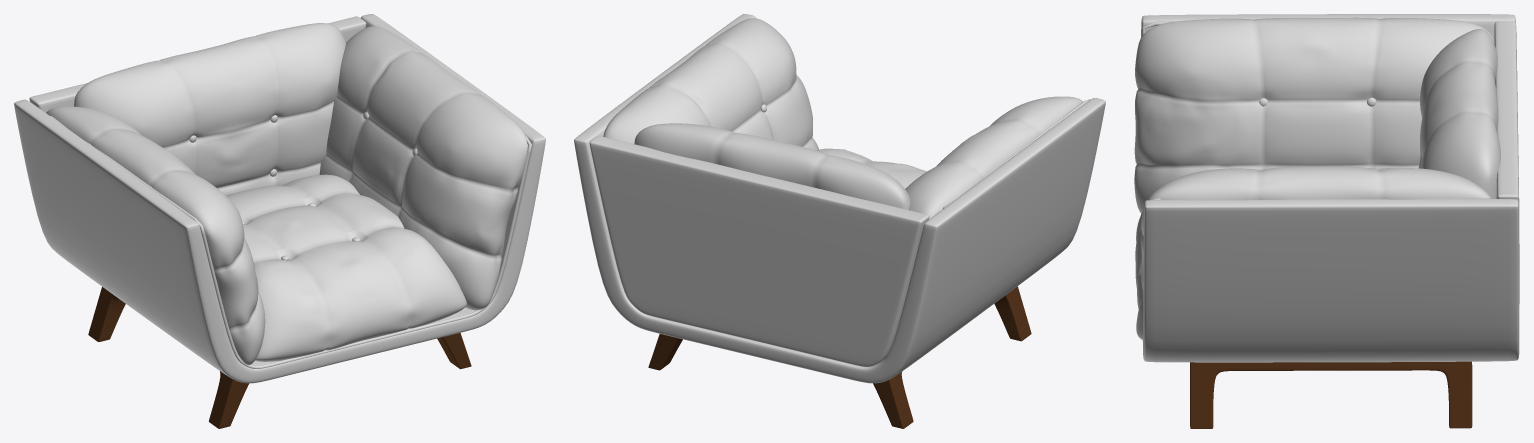
Rendered from couchChair.fbx.
3 renders of one model, left to right at view 1: azimuth 30°, elevation 25°; view 2: azimuth 150°, elevation 25°; view 3: azimuth 270°, elevation 25°, orthographic. The views are drawn at different scales.
Parts seen in each view (by area): view 1: Cube.001, Cube.005, Cube.004, Cube.002, Cube.006, Plane, Cube.013, Cube.003; view 2: Cube.003, Cube.001, Cube.005, Cube.004, Cube.006, Plane, Cube.002; view 3: Cube.001, Cube.006, Cube.004, Cube.005, Plane, Cube.003, Cube.002.
Part boxes in pixels (x1=…): Cube.001: x1=14, y1=14, x2=545, y2=383; Cube.005: x1=319, y1=26, x2=528, y2=310; Cube.004: x1=74, y1=23, x2=346, y2=195; Cube.002: x1=226, y1=174, x2=466, y2=361; Cube.006: x1=46, y1=106, x2=265, y2=364; Plane: x1=88, y1=287, x2=471, y2=428; Cube.013: x1=50, y1=116, x2=531, y2=368; Cube.003: x1=29, y1=16, x2=366, y2=112; Cube.003: x1=589, y1=136, x2=929, y2=366; Cube.001: x1=574, y1=14, x2=1105, y2=383; Cube.005: x1=603, y1=18, x2=818, y2=150; Cube.004: x1=634, y1=123, x2=910, y2=209; Cube.006: x1=905, y1=96, x2=1082, y2=219; Plane: x1=648, y1=286, x2=1031, y2=428; Cube.002: x1=817, y1=148, x2=926, y2=188; Cube.001: x1=1141, y1=14, x2=1519, y2=362; Cube.006: x1=1134, y1=17, x2=1494, y2=213; Cube.004: x1=1418, y1=29, x2=1501, y2=198; Cube.005: x1=1136, y1=166, x2=1491, y2=339; Plane: x1=1190, y1=361, x2=1472, y2=428; Cube.003: x1=1494, y1=21, x2=1519, y2=211; Cube.002: x1=1135, y1=168, x2=1380, y2=308.
Bounding box in the file's own units: 110 × 72.96 × 92.36.
